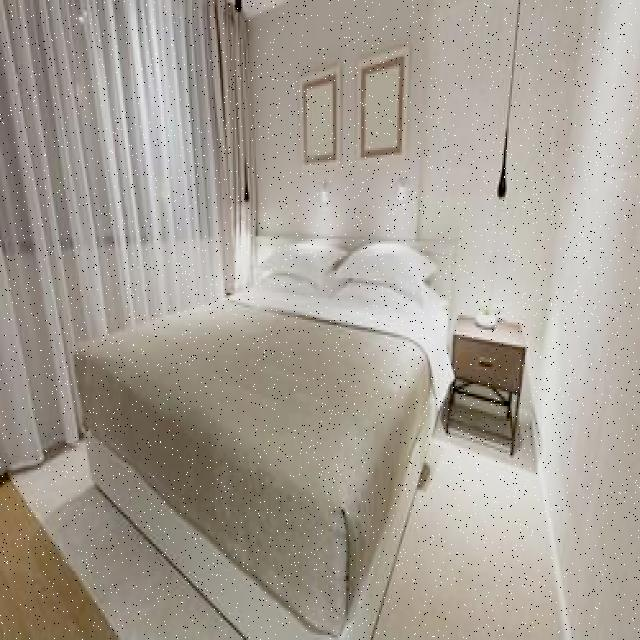bed: (69, 236, 454, 630)
